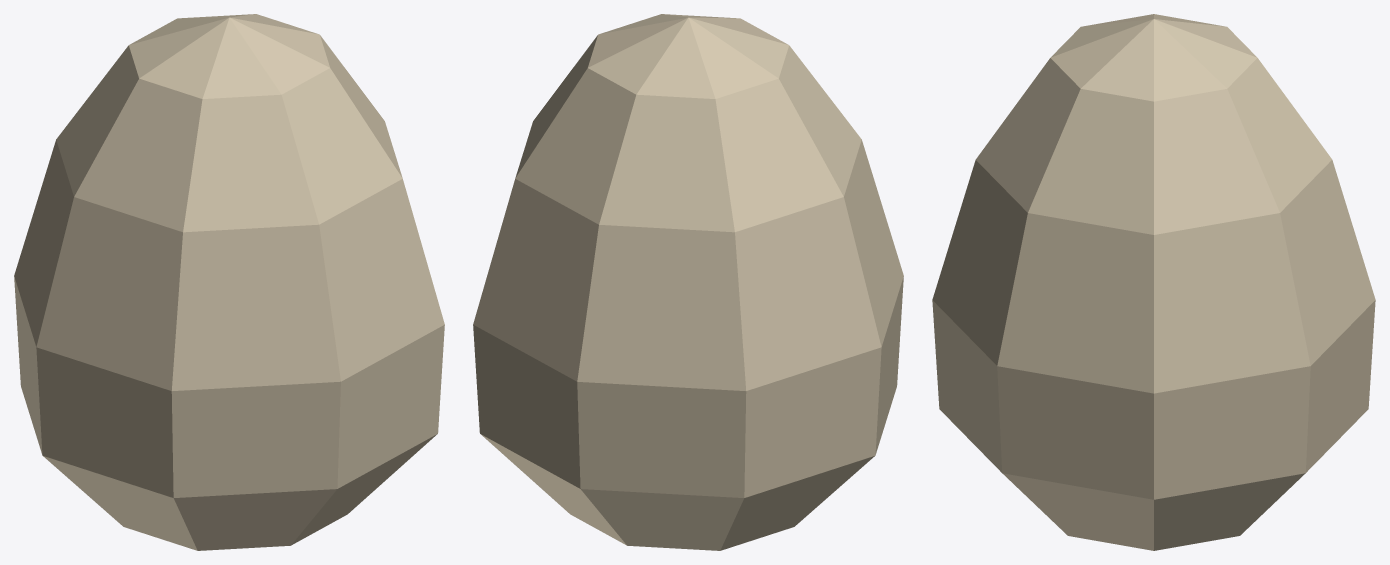
The model's file is egg-chicken.fbx.
The picture shows the model from 3 angles, left to right: view 1: azimuth 30°, elevation 25°; view 2: azimuth 150°, elevation 25°; view 3: azimuth 270°, elevation 25°; orthographic projection.
Visible parts, largest first — view 1: egg; view 2: egg; view 3: egg.
Part boxes in pixels (x1,y1,x2,y2): egg: (14,14,444,550); egg: (473,14,903,550); egg: (932,14,1375,550).
Size of the model in its own units: 40.75 by 51.74 by 40.75.
